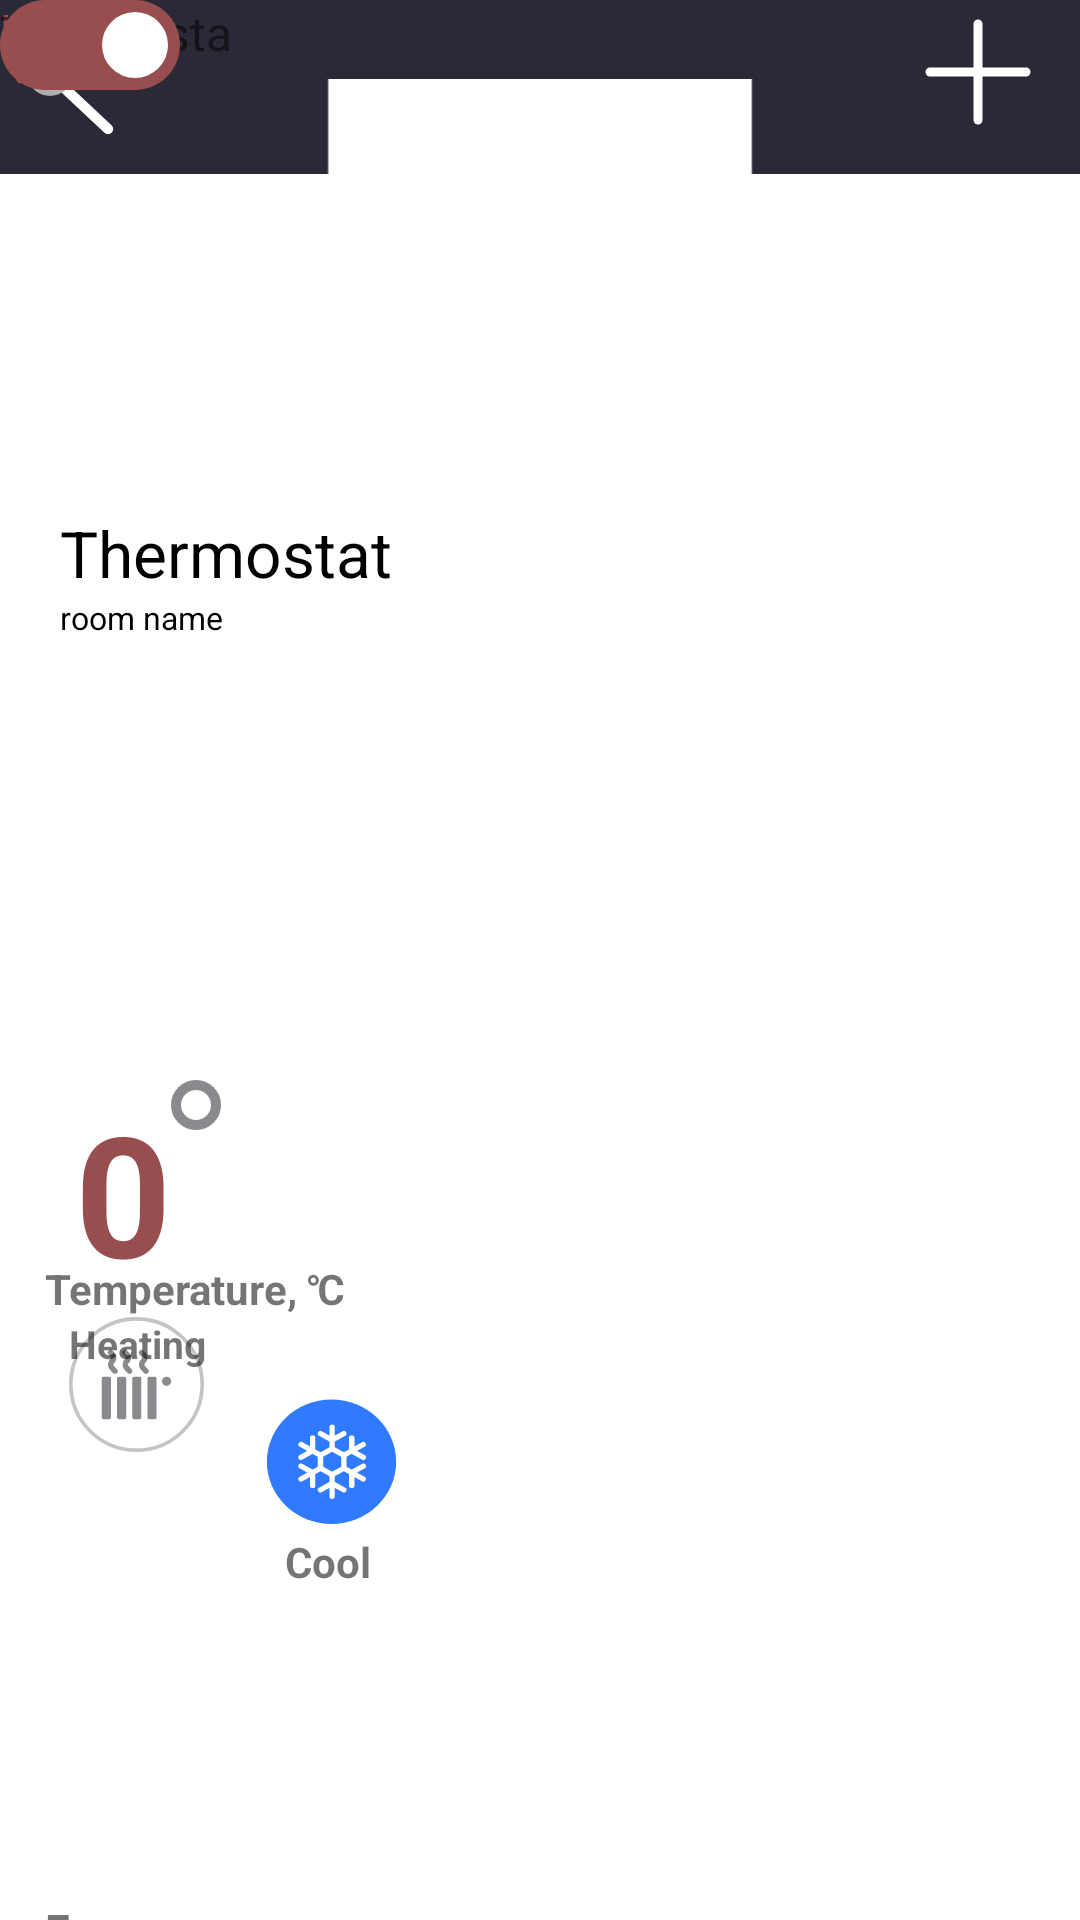

Point at icon controls on the screen. Image size 1080×1920, points as [x,y].
resource switch: [90,45]
